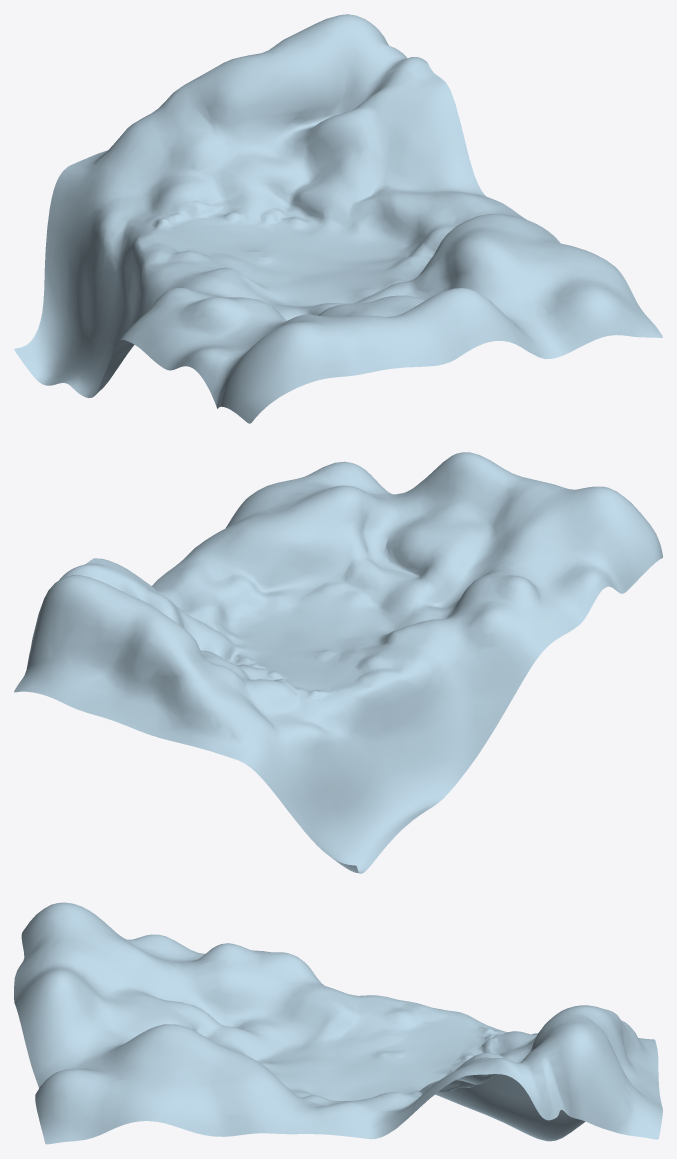
3 views of the same model, one above another, from view 1: azimuth 30°, elevation 25°; view 2: azimuth 150°, elevation 25°; view 3: azimuth 270°, elevation 25° (orthographic). The views are drawn at different scales.
Parts seen in each view (by area): view 1: Plane.001; view 2: Plane.001; view 3: Plane.001.
Boxes of the visible parts, bbox=[...] form: Plane.001: bbox=[14, 14, 662, 423]; Plane.001: bbox=[14, 452, 662, 873]; Plane.001: bbox=[14, 902, 662, 1144].
Bounding box in the file's own units: 246 × 144 × 337.
